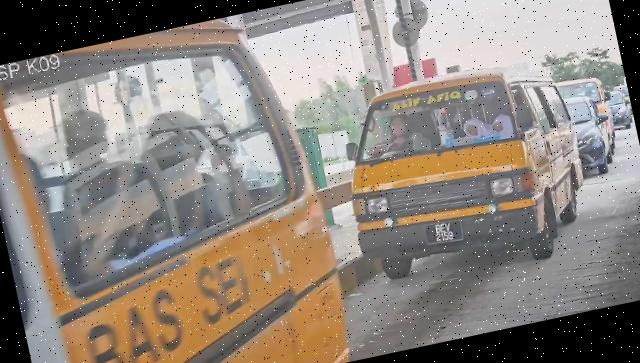License_Plate: (422, 217, 467, 251)
van: (329, 53, 600, 298)
